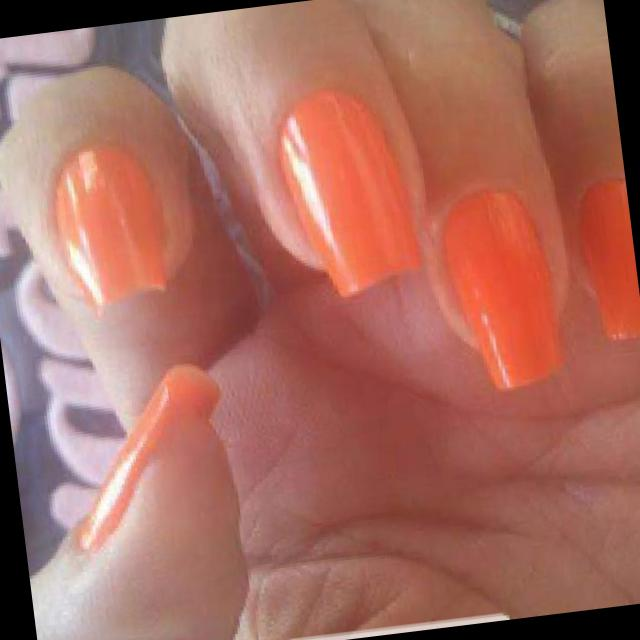Nail: (280, 89, 423, 297), (442, 188, 562, 384), (53, 147, 165, 314), (75, 366, 169, 549), (580, 178, 640, 337)
